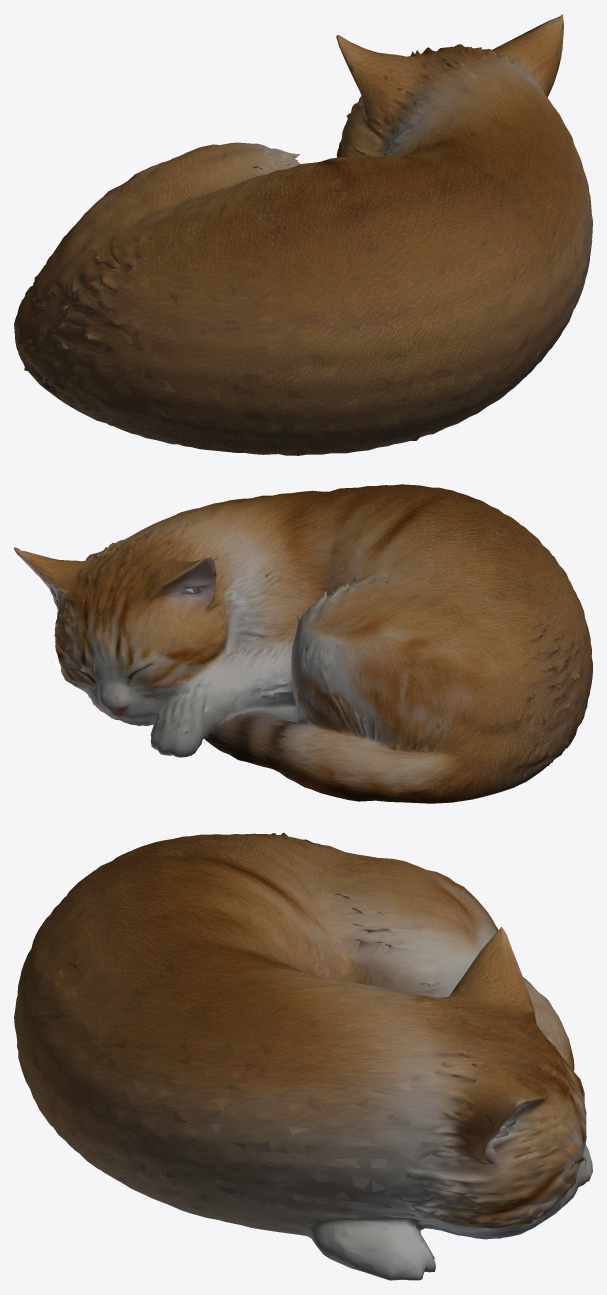
File: cat.fbx
The picture shows the model from 3 angles, top to bottom: view 1: azimuth 30°, elevation 25°; view 2: azimuth 150°, elevation 25°; view 3: azimuth 270°, elevation 25°; orthographic projection. The views are drawn at different scales.
Visible parts, largest first — view 1: tripo_node_00f63c83-a8af-4752-ac32-d6e997f92eb1; view 2: tripo_node_00f63c83-a8af-4752-ac32-d6e997f92eb1; view 3: tripo_node_00f63c83-a8af-4752-ac32-d6e997f92eb1.
Part boxes in pixels (bbox=[...]): tripo_node_00f63c83-a8af-4752-ac32-d6e997f92eb1: bbox=[14, 14, 592, 455]; tripo_node_00f63c83-a8af-4752-ac32-d6e997f92eb1: bbox=[14, 484, 592, 803]; tripo_node_00f63c83-a8af-4752-ac32-d6e997f92eb1: bbox=[14, 832, 592, 1280].
Size of the model in its own units: 57.5 by 21.94 by 43.49.
